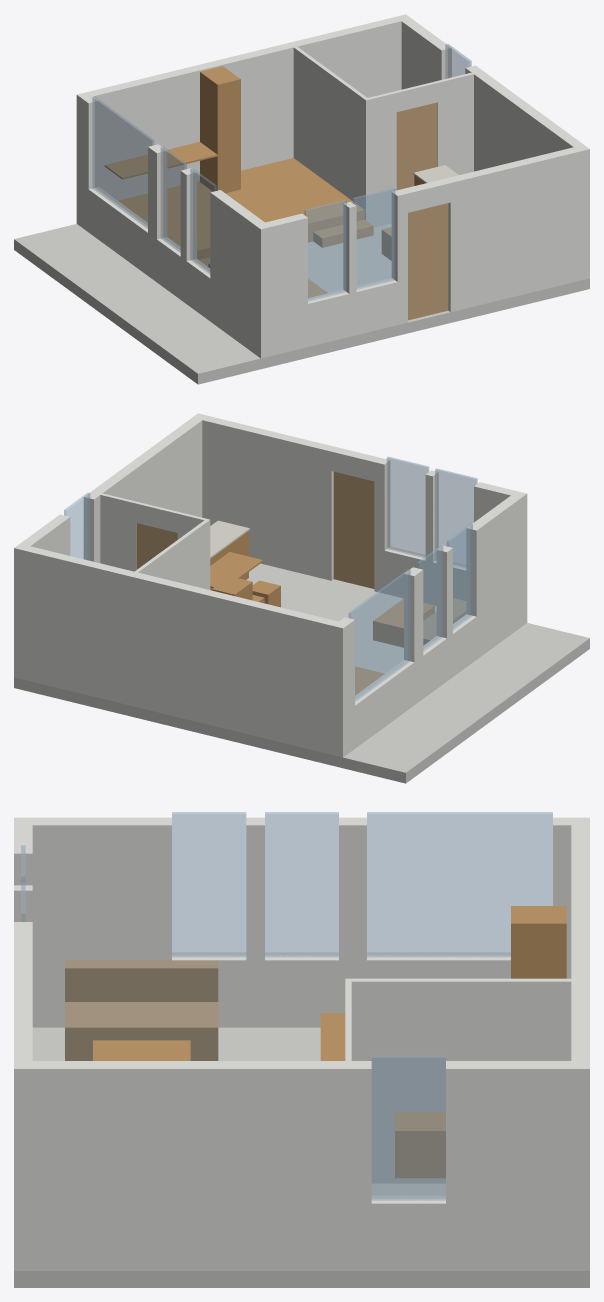
File: CAB_V1_BANDE_SERVANTE.glb
3 views of the same model, one above another, from view 1: azimuth 30°, elevation 25°; view 2: azimuth 150°, elevation 25°; view 3: azimuth 270°, elevation 25° (orthographic). The views are drawn at different scales.
Visible parts, largest first — view 1: 100005, 100003, 100002, 100006, 100004, 100017, 100014, 100015, 100019, 100007, 100013, 100012 (+6 smaller); view 2: 100003, 100002, 100005, 100006, 100004, 100007, 100013, 100015, 100012, 100011, 100014, 100009 (+7 smaller); view 3: 100004, 100006, 100007, 100014, 100022, 100002, 100010, 100009, 100008, 100003, 100005, 100019 (+2 smaller).
Boxes of the visible parts, box(x1,y1,x2,y2) form: 100005: box(261, 147, 589, 358); 100003: box(77, 14, 405, 200); 100002: box(14, 223, 589, 384); 100006: box(76, 94, 264, 358); 100004: box(401, 14, 589, 171); 100017: box(118, 158, 373, 266); 100014: box(293, 46, 367, 219); 100015: box(366, 72, 473, 227); 100019: box(104, 66, 240, 193); 100007: box(92, 96, 154, 228); 100013: box(408, 203, 448, 320); 100012: box(352, 188, 395, 289); 100003: box(14, 546, 342, 757); 100002: box(14, 563, 589, 783); 100005: box(198, 413, 526, 605); 100006: box(339, 493, 527, 757); 100004: box(14, 413, 202, 562); 100007: box(348, 569, 410, 701); 100013: box(333, 471, 374, 588); 100015: box(100, 493, 209, 571); 100012: box(386, 456, 429, 557); 100011: box(435, 468, 477, 567); 100014: box(135, 519, 210, 589); 100009: box(446, 523, 472, 629); 100004: box(14, 1061, 589, 1270); 100006: box(14, 817, 589, 1027); 100007: box(367, 812, 552, 957); 100014: box(345, 978, 571, 1183); 100022: box(65, 960, 218, 1060); 100002: box(14, 1027, 589, 1287); 100010: box(371, 1055, 445, 1200); 100009: box(172, 812, 246, 957); 100008: box(265, 812, 338, 957); 100003: box(571, 818, 589, 1068); 100005: box(14, 818, 32, 1068); 100019: box(511, 906, 566, 978).
Bounding box in the file's own units: 7.62 × 2.7 × 6.2.
